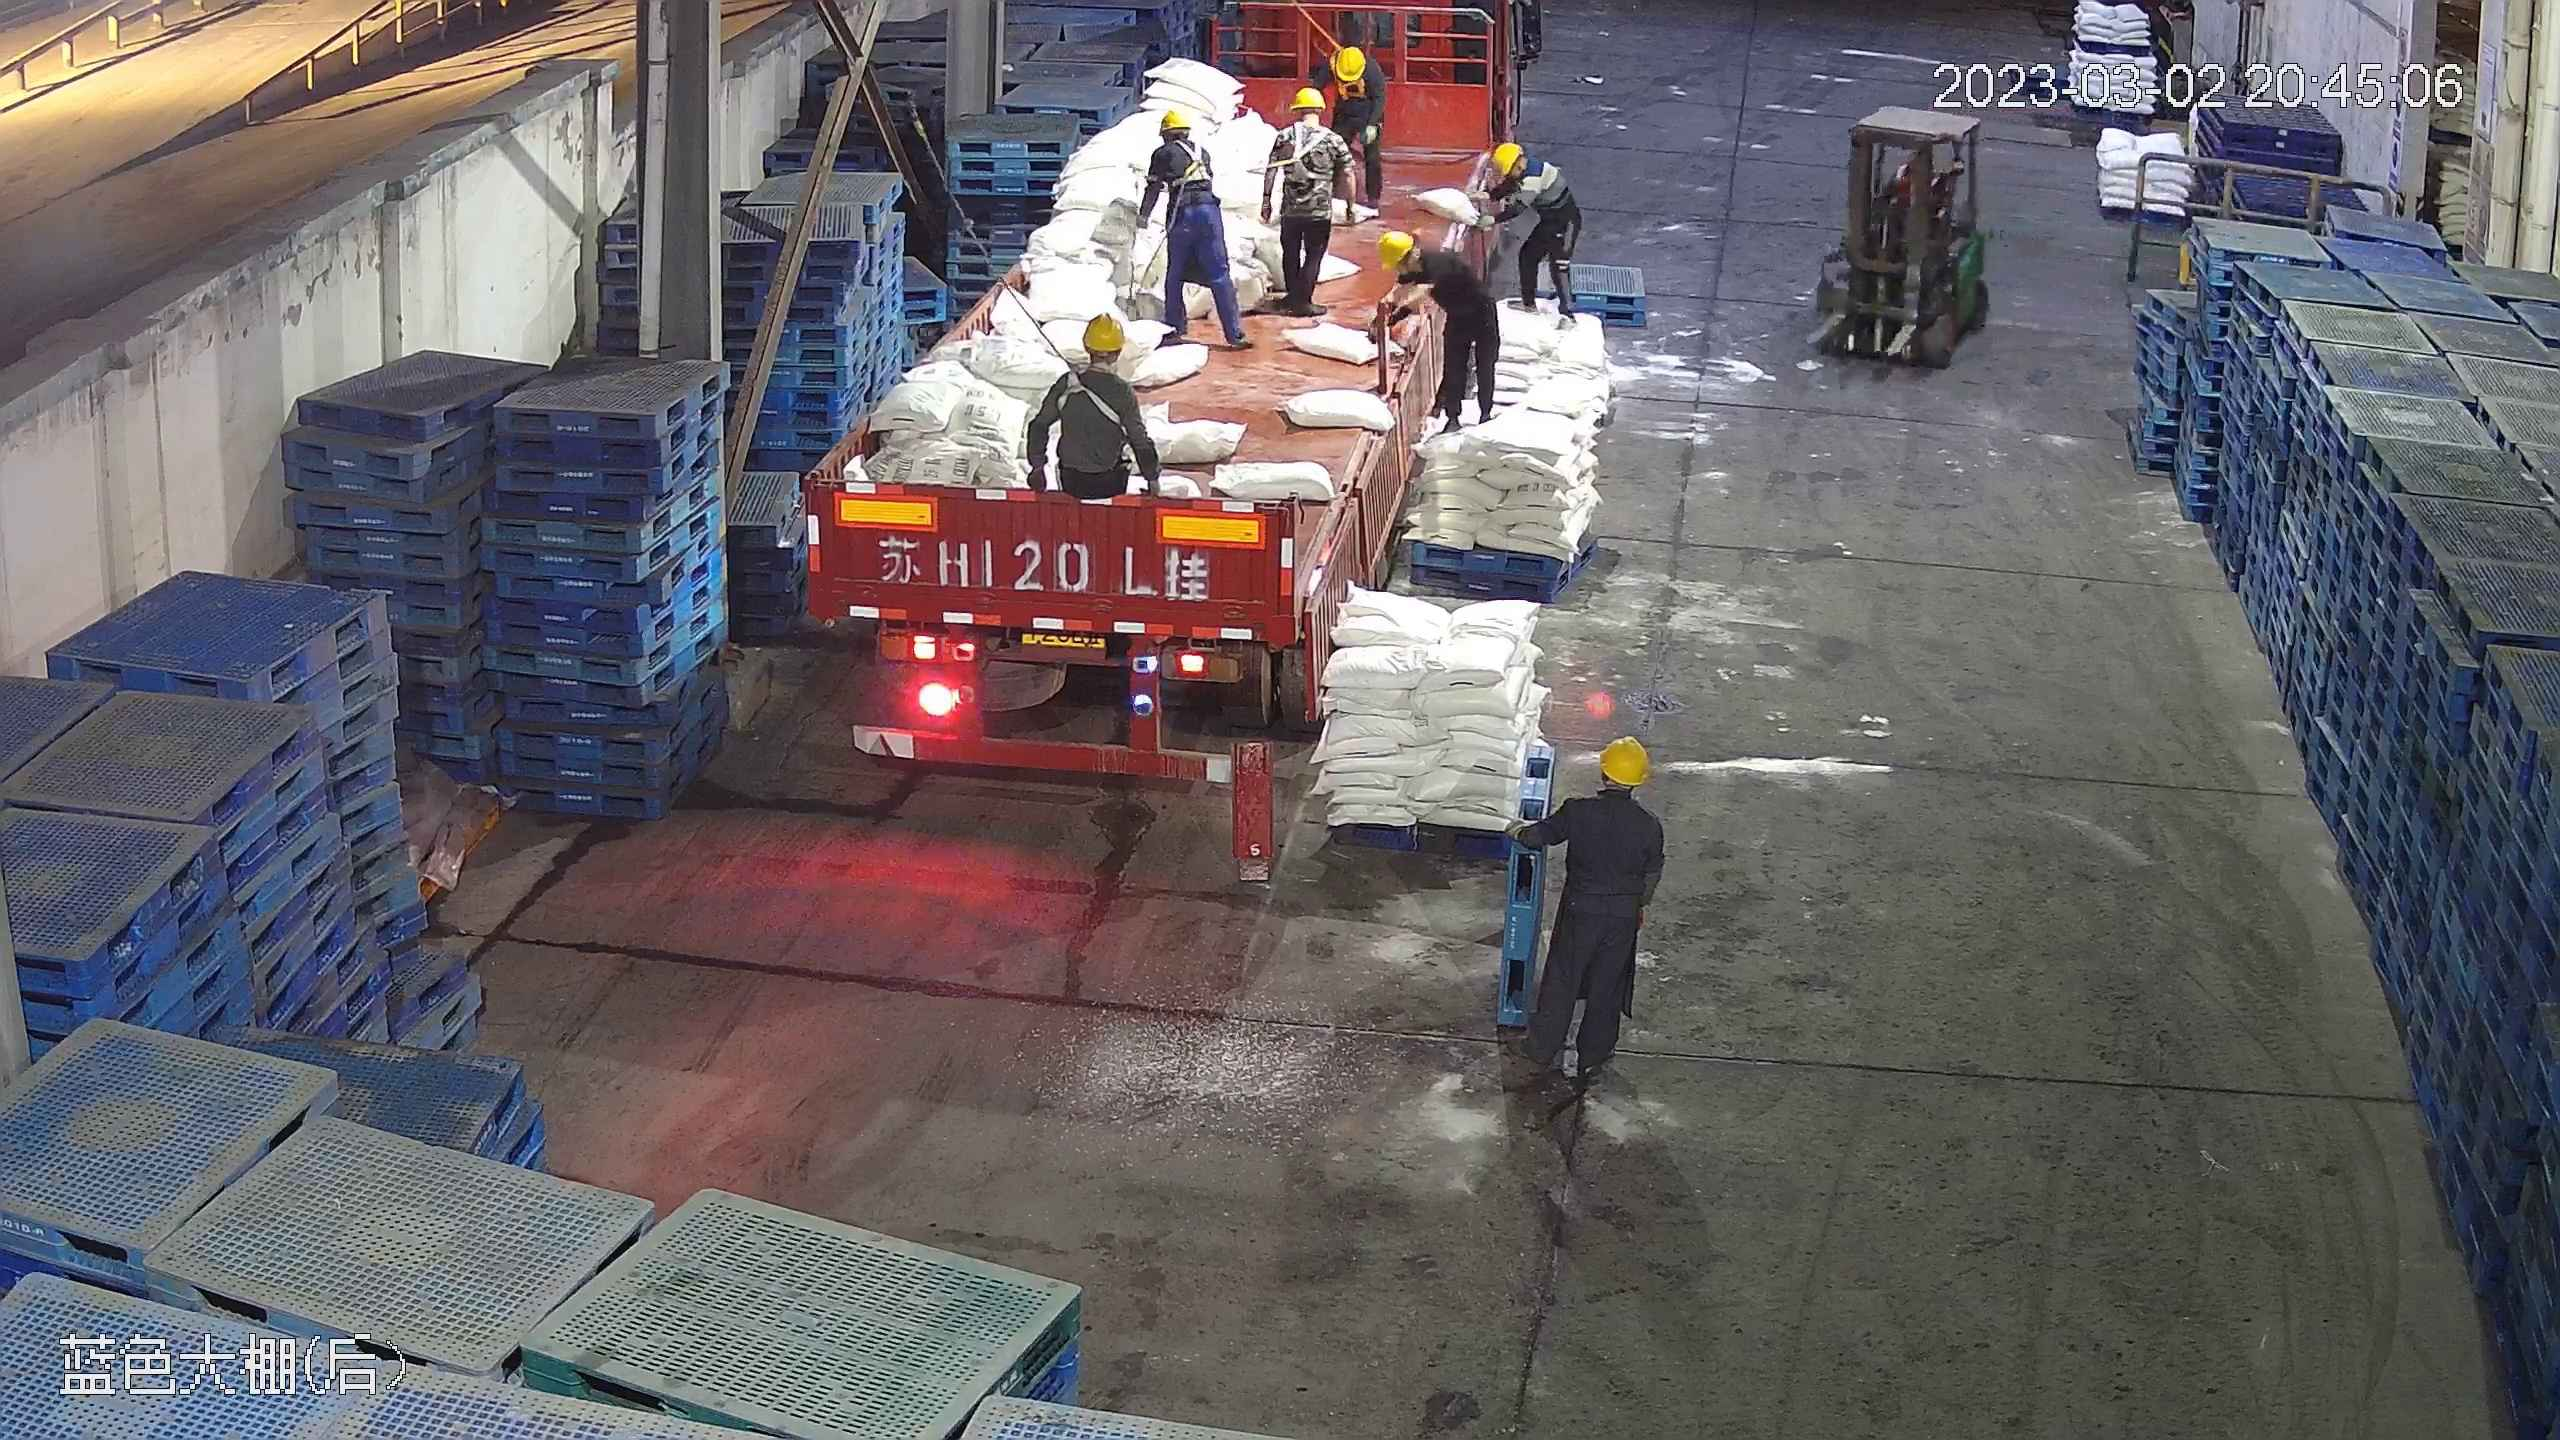belt: (1047, 364, 1130, 437), (1156, 126, 1217, 187), (1274, 127, 1331, 188), (1327, 44, 1368, 102)
head: (1551, 731, 1660, 855), (1045, 312, 1146, 411), (1376, 232, 1462, 300), (1269, 87, 1341, 165), (1147, 107, 1218, 180), (1482, 140, 1559, 205), (1324, 42, 1372, 95)
helmet: (1044, 311, 1143, 410), (1595, 734, 1648, 784), (1077, 312, 1129, 354), (1374, 231, 1415, 273), (1330, 40, 1364, 81), (1490, 140, 1525, 174), (1287, 85, 1326, 115), (1157, 106, 1190, 131)
people: (1514, 727, 1664, 1099), (1021, 258, 1169, 575), (1135, 100, 1247, 347), (1369, 230, 1500, 435), (1260, 82, 1346, 319), (1468, 140, 1578, 326), (1319, 34, 1384, 204)
truck: (823, 20, 1488, 787)
